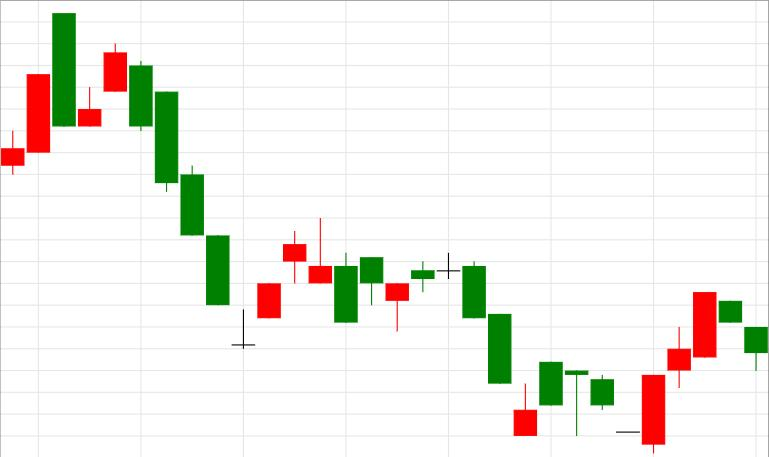morning_star_rise: (129, 61, 281, 349)
three_white_soldiers_rise: (564, 292, 716, 453)
